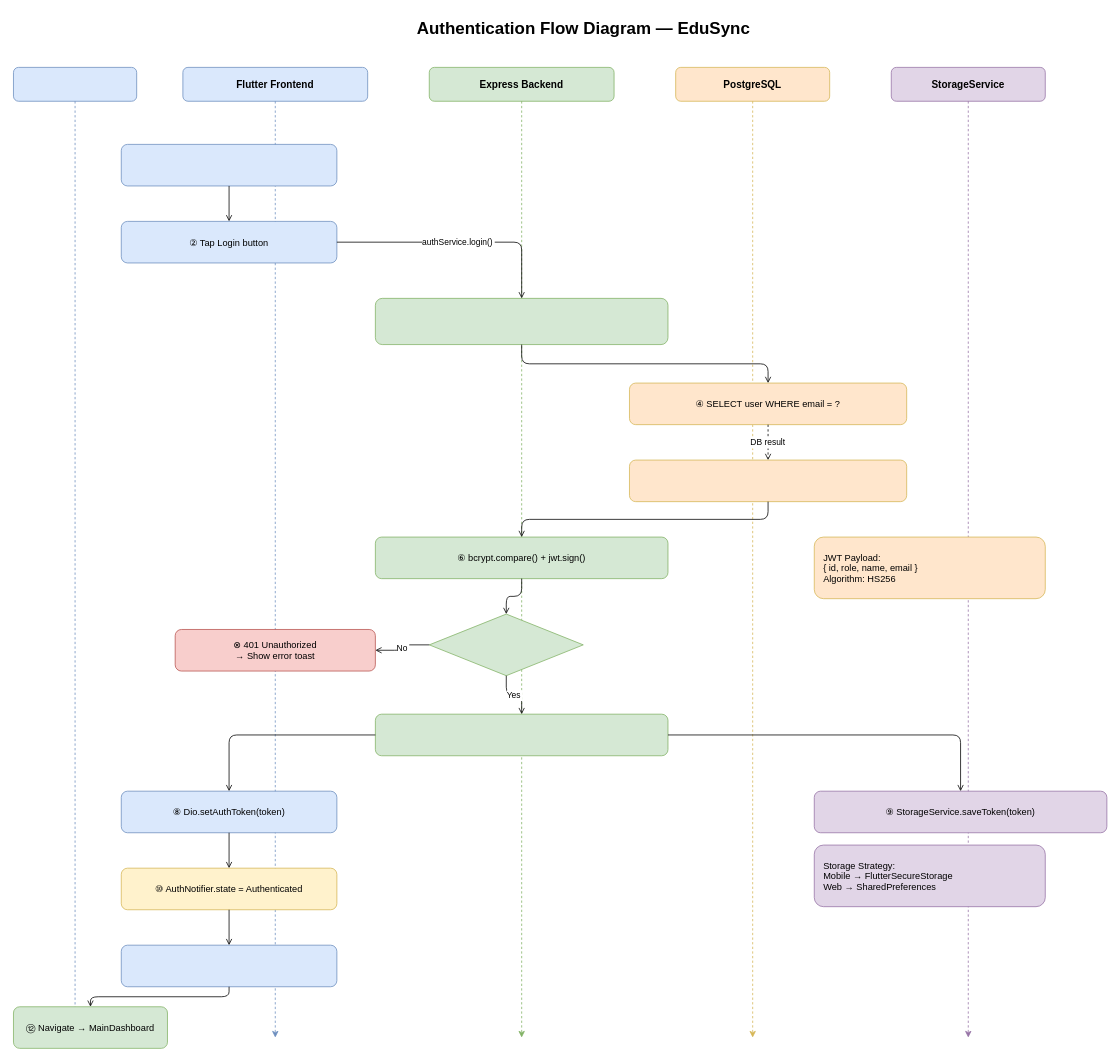
The diagram is 1120 pixels wide and 1062 high, and some of its shapes have lost their labels. Each missing label, with the centre of its shape:
"User" belongs at point 75,84.
"Valid?" belongs at point 506,644.
"① Enter email + password" belongs at point 229,165.
"③ POST /api/auth/login { email, password }" belongs at point 521,321.
"⑤ user row returned" belongs at point 768,480.
"⑦ 200 OK { token, user }" belongs at point 521,734.
"⑪ SocketService.connect(jwt)" belongs at point 229,965.
